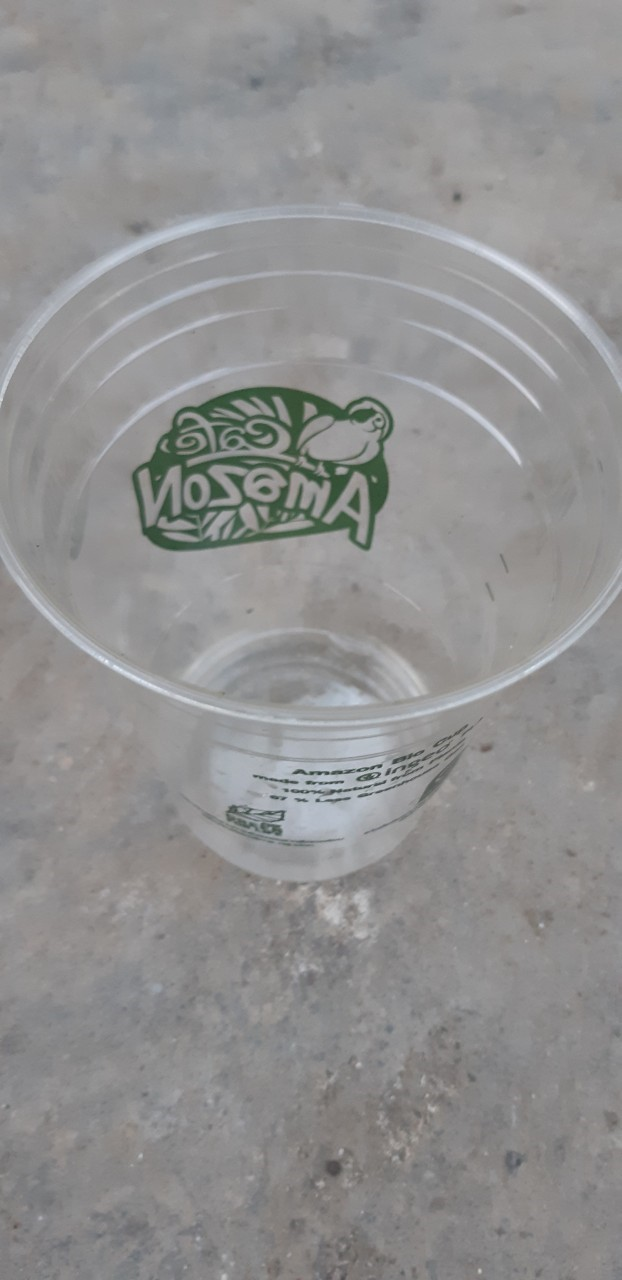PlasticCup: (2, 200, 621, 878)
